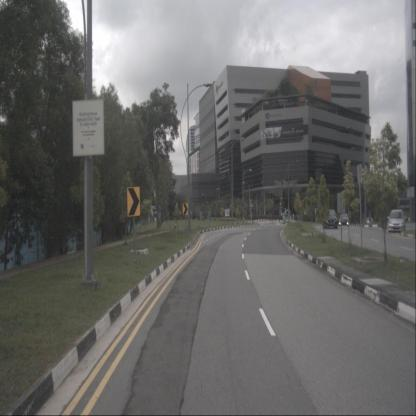vehicle-car: (388, 210, 405, 232), (322, 208, 338, 230), (339, 212, 349, 226)
